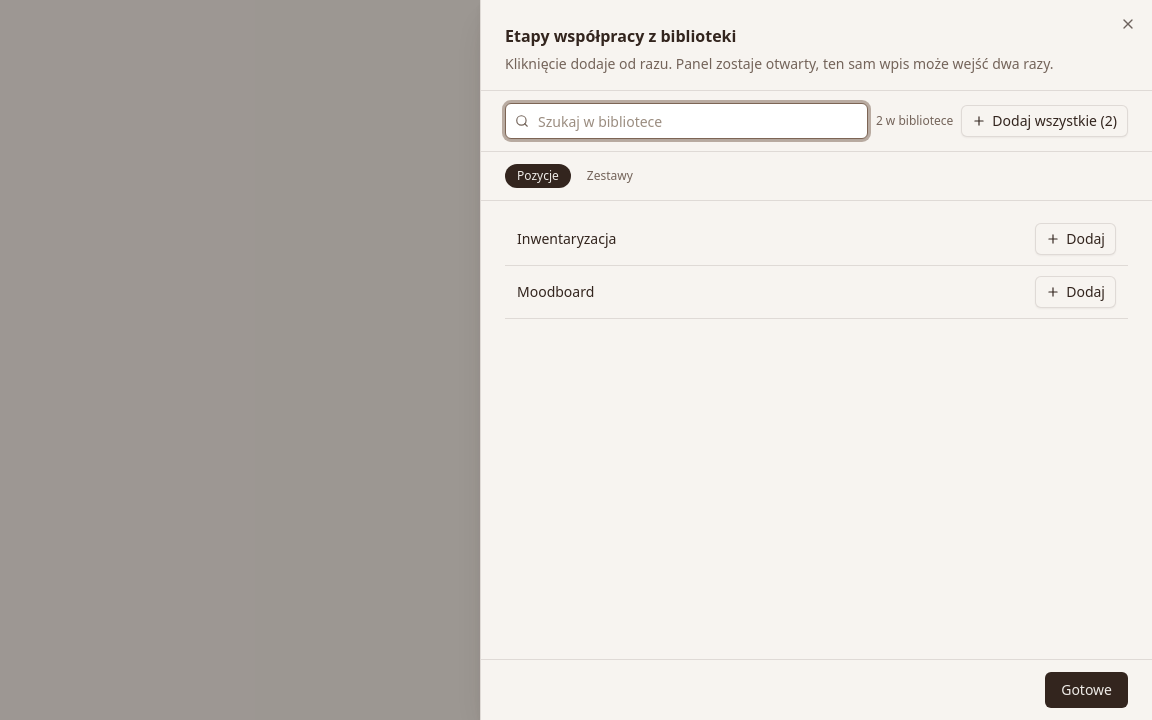
Test case: DocLibraryPanel — grupy i zestawy (T-121) › pusta półka zestawów mówi o tym wprost
Click the tab "Zestawy": click(610, 176) [575,164,645,188]
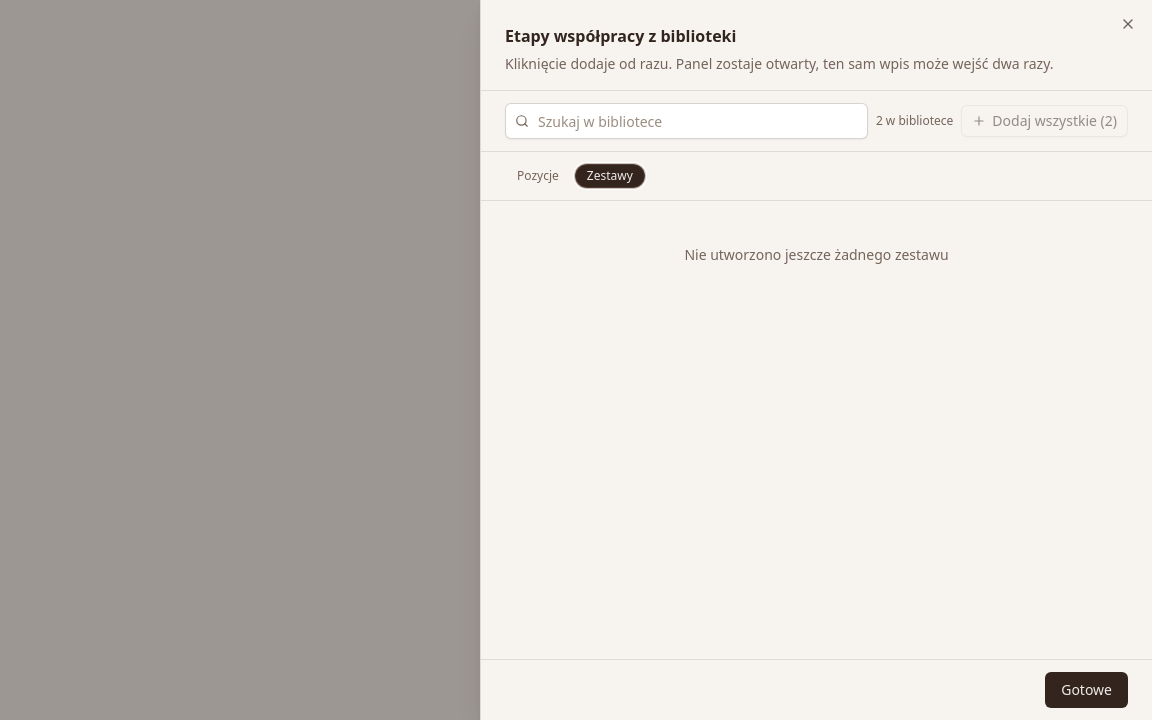
Result: the text "Nie utworzono jeszcze żadnego zestawu" is shown at [684,245,949,264]
